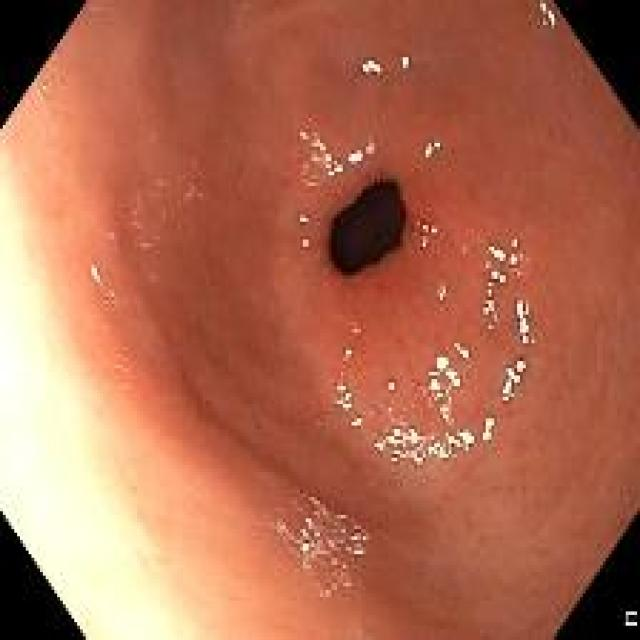bubbles: (335, 523, 366, 545), (36, 81, 50, 100)
contrast: (327, 179, 403, 276)
saturation: (0, 133, 78, 640), (80, 373, 212, 638)
specularity: (374, 427, 474, 465), (513, 299, 531, 343), (500, 367, 522, 400), (483, 286, 497, 320), (337, 383, 352, 413), (428, 371, 444, 399), (358, 59, 382, 75), (438, 401, 454, 422), (424, 139, 441, 158), (454, 342, 470, 361), (482, 418, 494, 443), (445, 369, 460, 387), (88, 262, 101, 282), (487, 244, 503, 260), (434, 355, 448, 370), (545, 8, 556, 27), (490, 269, 506, 282), (345, 151, 361, 163), (436, 287, 448, 303), (421, 223, 438, 234), (320, 152, 331, 167), (401, 53, 410, 70), (351, 418, 364, 428), (303, 515, 314, 526), (514, 360, 526, 370), (299, 541, 309, 553), (38, 83, 48, 94), (106, 290, 118, 299), (352, 546, 365, 554), (336, 511, 346, 521), (509, 255, 517, 267), (343, 348, 351, 360), (388, 381, 395, 393), (299, 131, 308, 140), (328, 556, 337, 565), (510, 237, 518, 247), (327, 166, 335, 176), (310, 153, 320, 161), (539, 2, 546, 13), (298, 216, 306, 225), (334, 163, 341, 173), (420, 240, 428, 248), (317, 141, 325, 149), (302, 238, 308, 248)
